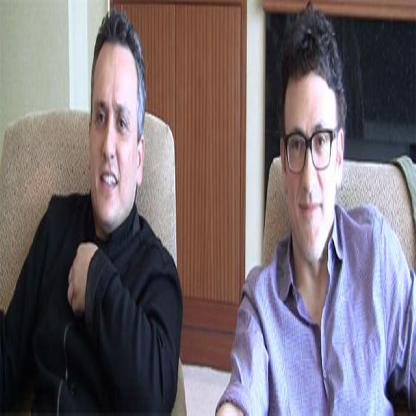face: (287, 74, 338, 272), (93, 42, 137, 228)
